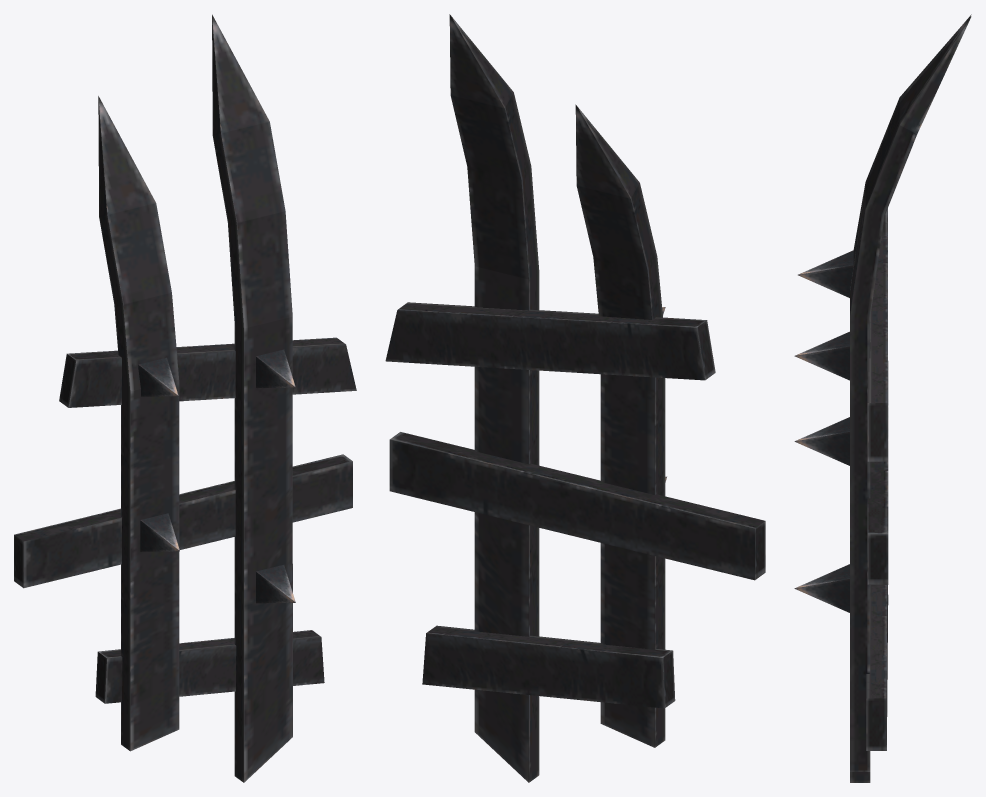
File: 10504_IronRail01.FBX
The picture shows the model from 3 angles, left to right: view 1: azimuth 30°, elevation 25°; view 2: azimuth 150°, elevation 25°; view 3: azimuth 270°, elevation 25°; orthographic projection. The views are drawn at different scales.
Parts seen in each view (by area): view 1: Object002; view 2: Object002; view 3: Object002.
Part boxes in pixels (x1,y1,x2,y2): Object002: (14,14,356,782); Object002: (385,14,765,782); Object002: (794,14,971,782).
Size of the model in its own units: 220 by 456 by 94.1.
